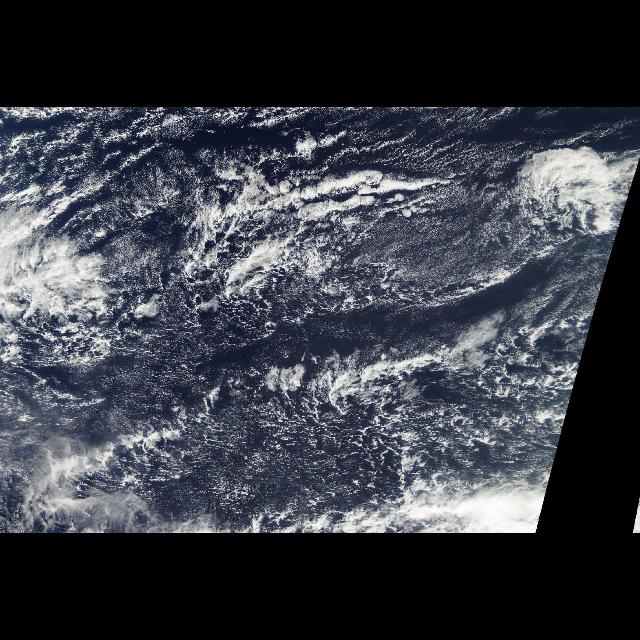Fish: (144, 134, 624, 352)
Gravel: (180, 397, 552, 499)
Sugar: (375, 123, 529, 321), (97, 212, 223, 430)
